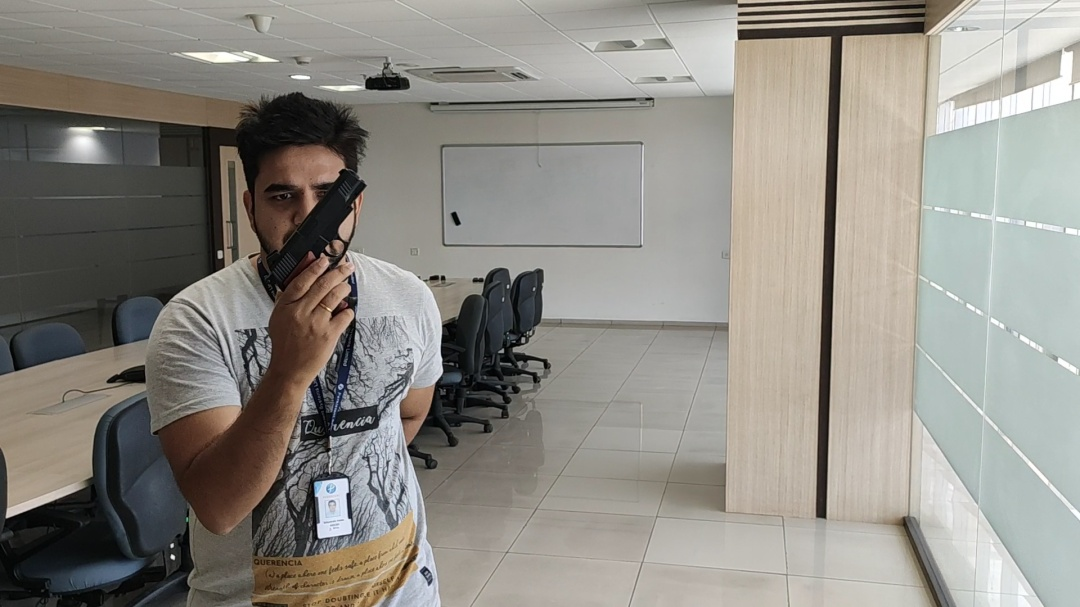gun: (258, 163, 369, 286)
